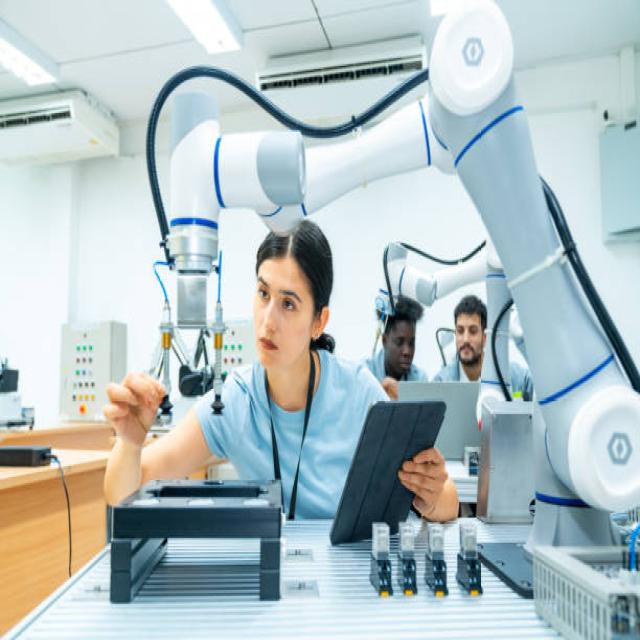Robotic-arm: (155, 7, 640, 528)
